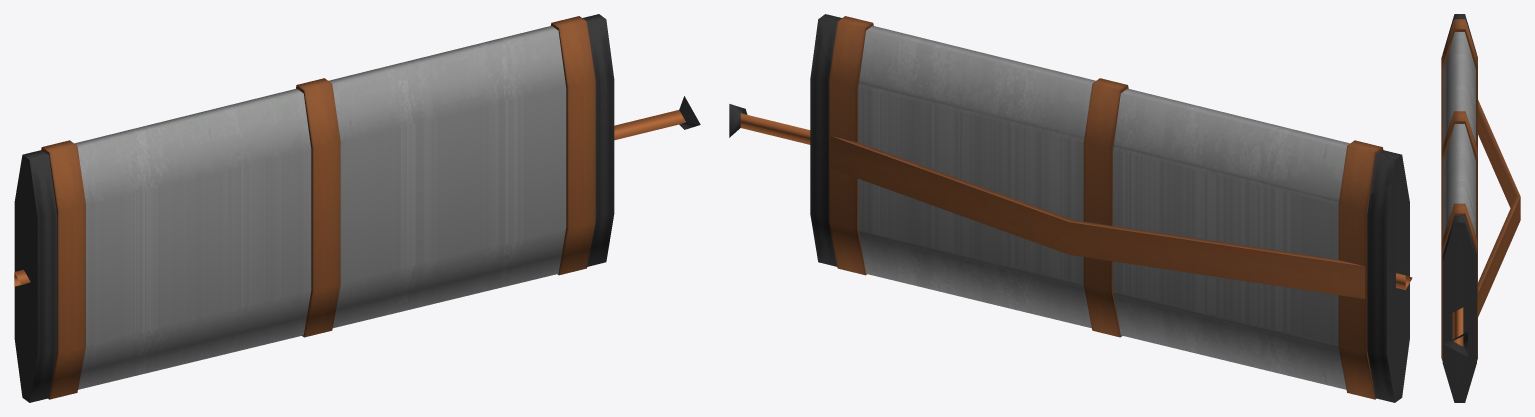
File: nt_hydro_shelf_holders_LOD2.obj
3 renders of one model, left to right at view 1: azimuth 30°, elevation 25°; view 2: azimuth 150°, elevation 25°; view 3: azimuth 270°, elevation 25°, orthographic. The views are drawn at different scales.
Parts seen in each view (by area): view 1: nt_2020_pipes_ceramic_holes, mtl_nt_hydro_cabbage_holders; view 2: nt_2020_pipes_ceramic_holes, mtl_nt_hydro_cabbage_holders; view 3: nt_2020_pipes_ceramic_holes, mtl_nt_hydro_cabbage_holders.
Part boxes in pixels (left/top/right/bottom): nt_2020_pipes_ceramic_holes: left=14, top=14, right=700, bottom=402; mtl_nt_hydro_cabbage_holders: left=41, top=16, right=595, bottom=399; nt_2020_pipes_ceramic_holes: left=729, top=14, right=1412, bottom=402; mtl_nt_hydro_cabbage_holders: left=829, top=16, right=1383, bottom=399; nt_2020_pipes_ceramic_holes: left=1442, top=14, right=1476, bottom=402; mtl_nt_hydro_cabbage_holders: left=1441, top=19, right=1520, bottom=360.
Size of the model in its own units: 106 by 37.04 by 14.51.
